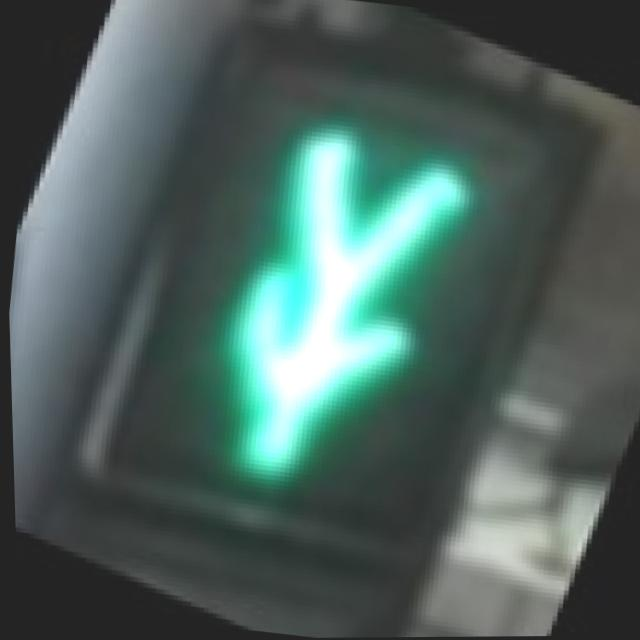green_light: (94, 56, 573, 596)
